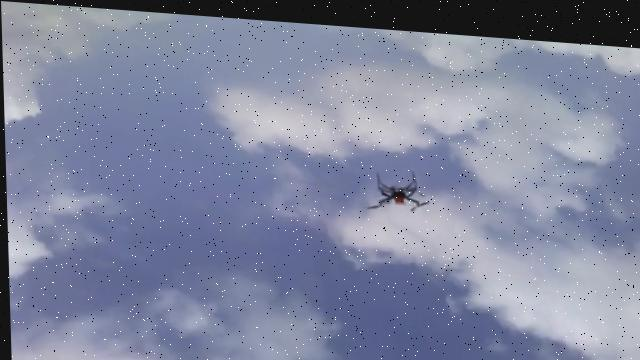drone: (365, 162, 431, 210)
